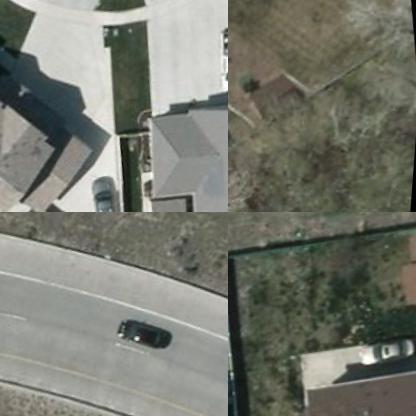car: (121, 313, 176, 349), (361, 331, 415, 367), (92, 171, 128, 211), (209, 22, 227, 93)
